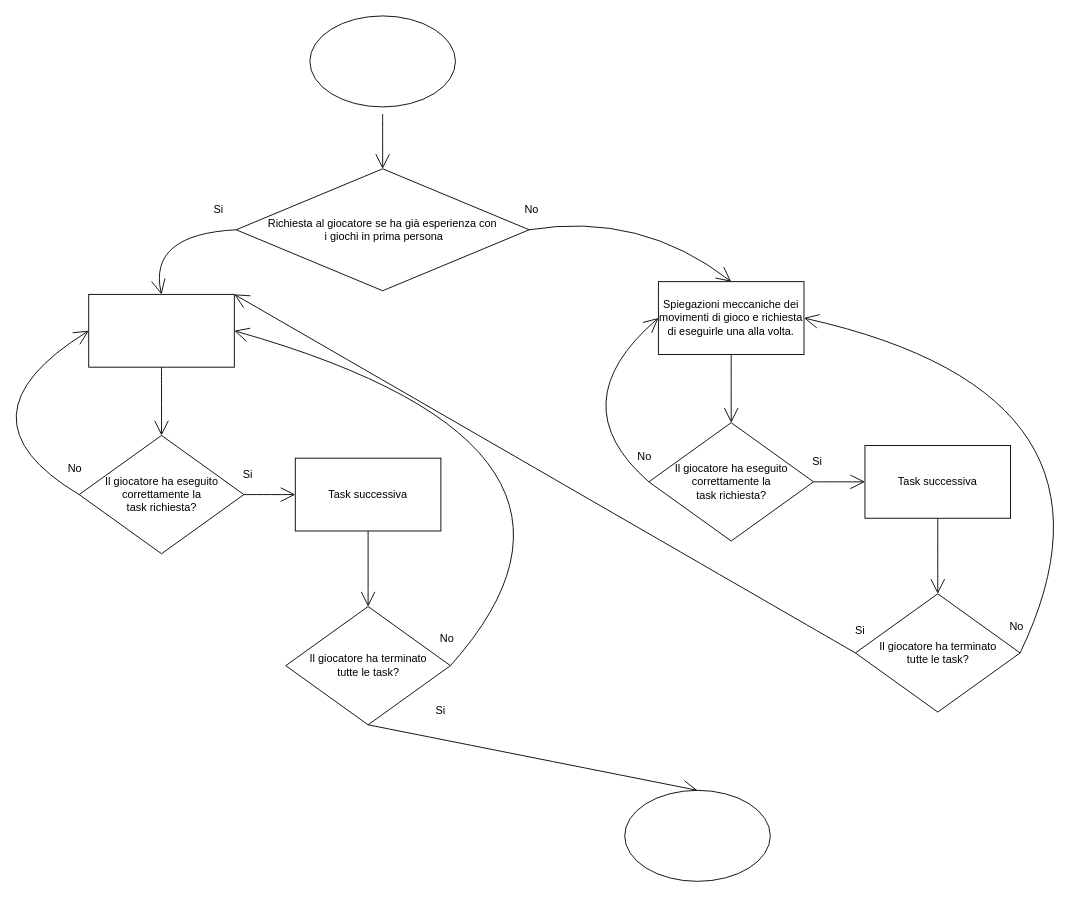
The diagram is 1069 pixels wide and 897 high, and some of its shapes have lost their labels. Here are the shapes that lost their labels. From the top down, the centre of each, then its label:
At (x=382, y=61): "Avvio livello 0".
At (x=161, y=330): "Spiegazioni meccaniche del gioco e richiesta di eseguirle una alla volta.".
At (x=697, y=835): "Fine livello".
